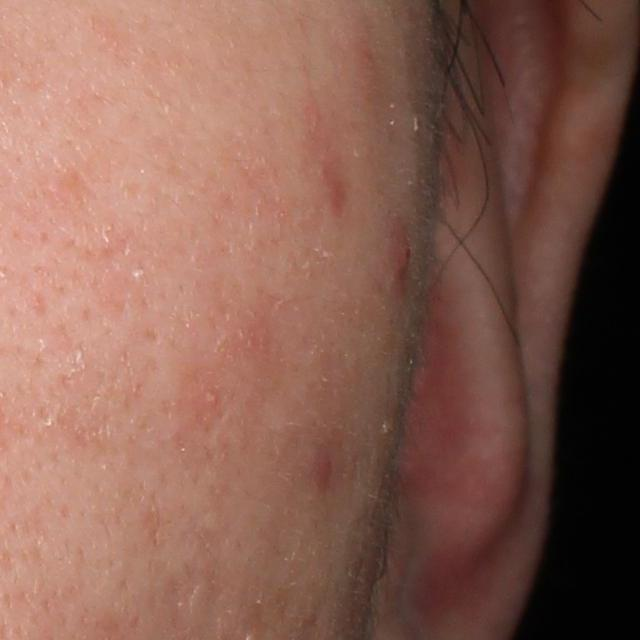papule: (391, 220, 419, 283), (308, 449, 336, 488)
